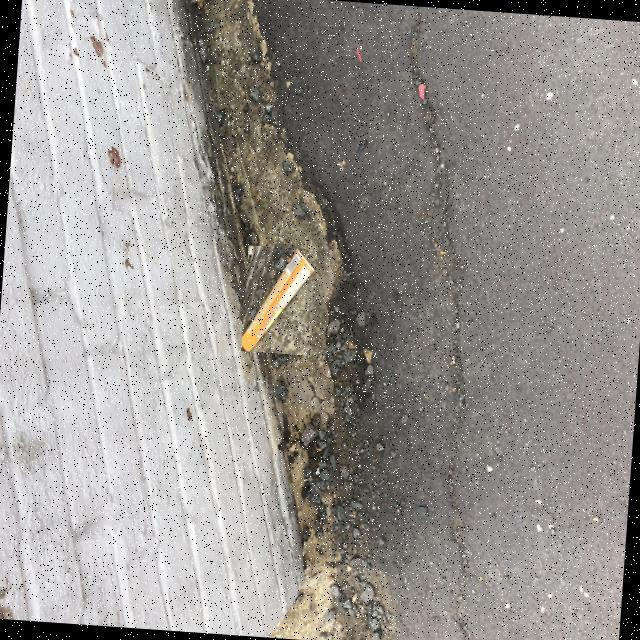Other carton: (242, 248, 315, 351)
